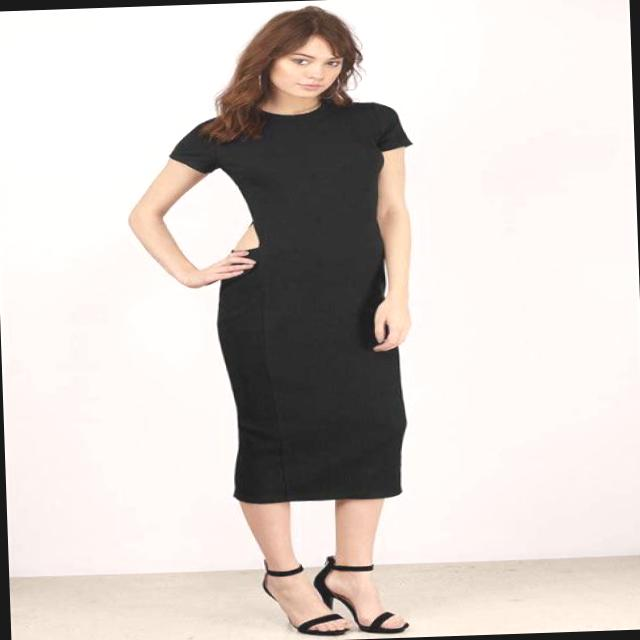dress: (167, 102, 425, 506)
